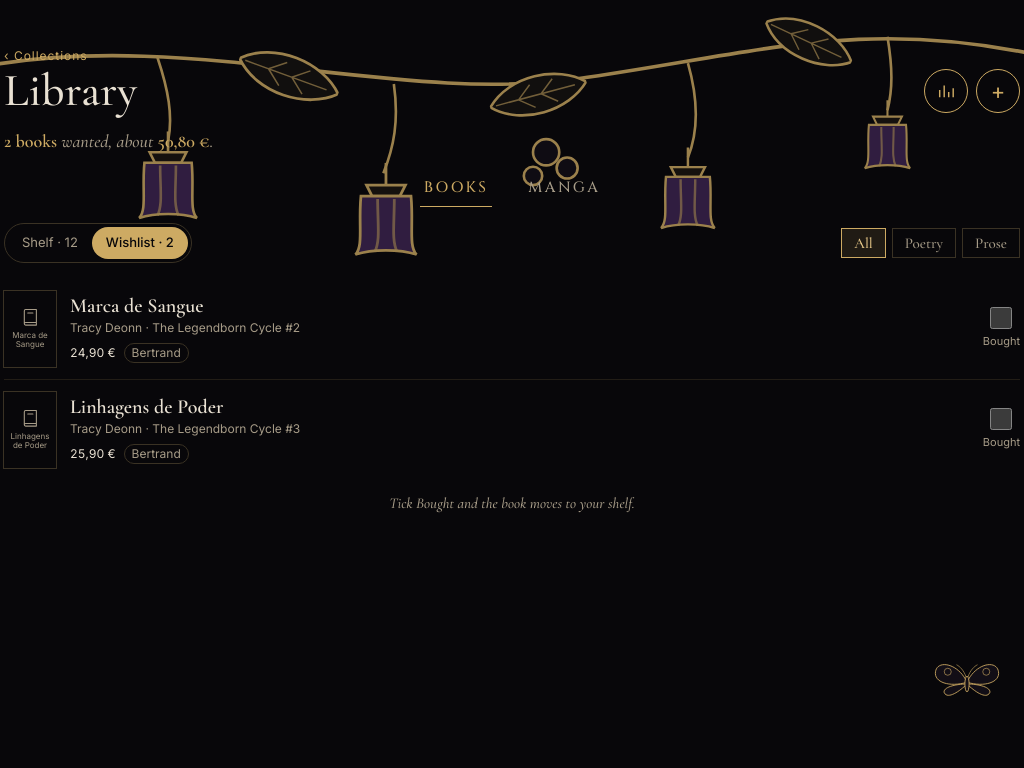
Test: books wishlist: ticking Bought marks it bought today and it leaves the list
Click the checkbox labelled "Bought" in the row of "Tracy Deonn · The Legendborn Cycle #2".
click(1001, 318)  # box [990,307,1012,329]
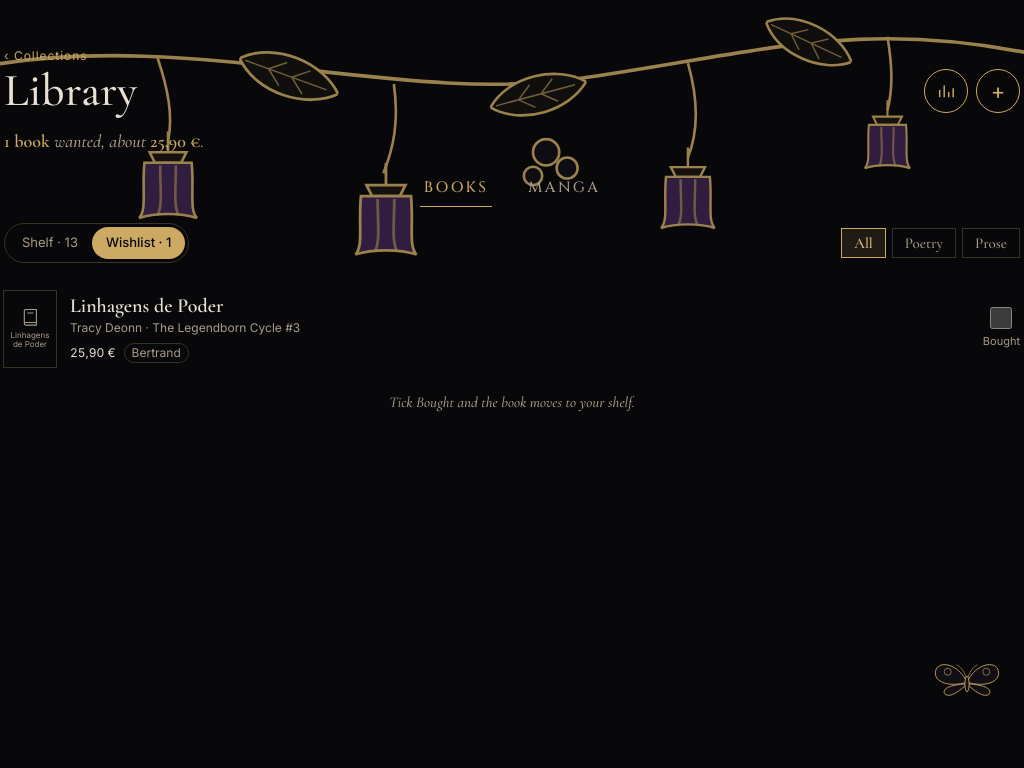
Check: the link "Linhagens de Poder" is shown, box [70,294,223,318]
Check: the link "Marca de Sangue" is gone
